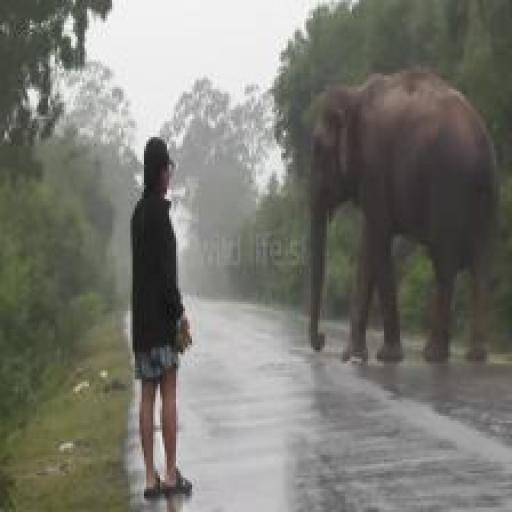Elephant: (283, 73, 503, 377)
